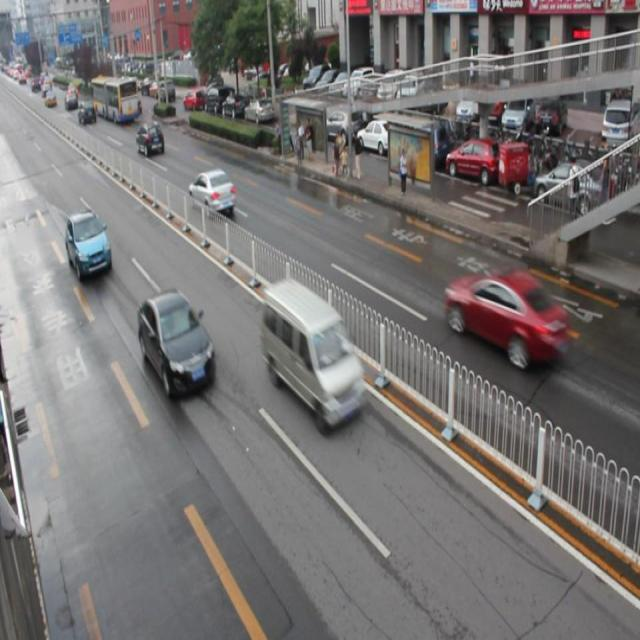car: (444, 265, 571, 370), (139, 292, 216, 397), (66, 212, 111, 281), (189, 168, 235, 214), (136, 121, 163, 156)
truck: (261, 279, 364, 431)
